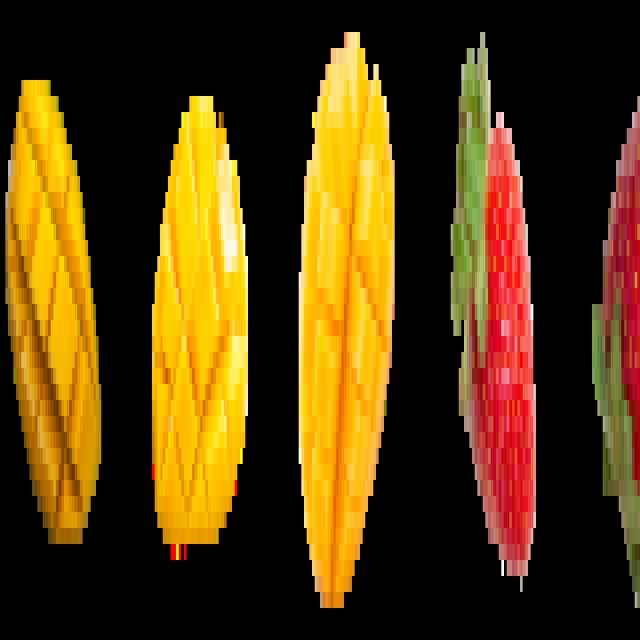mango: (294, 9, 402, 620), (145, 48, 254, 593), (4, 26, 105, 590)
strawberry: (444, 16, 552, 619)
